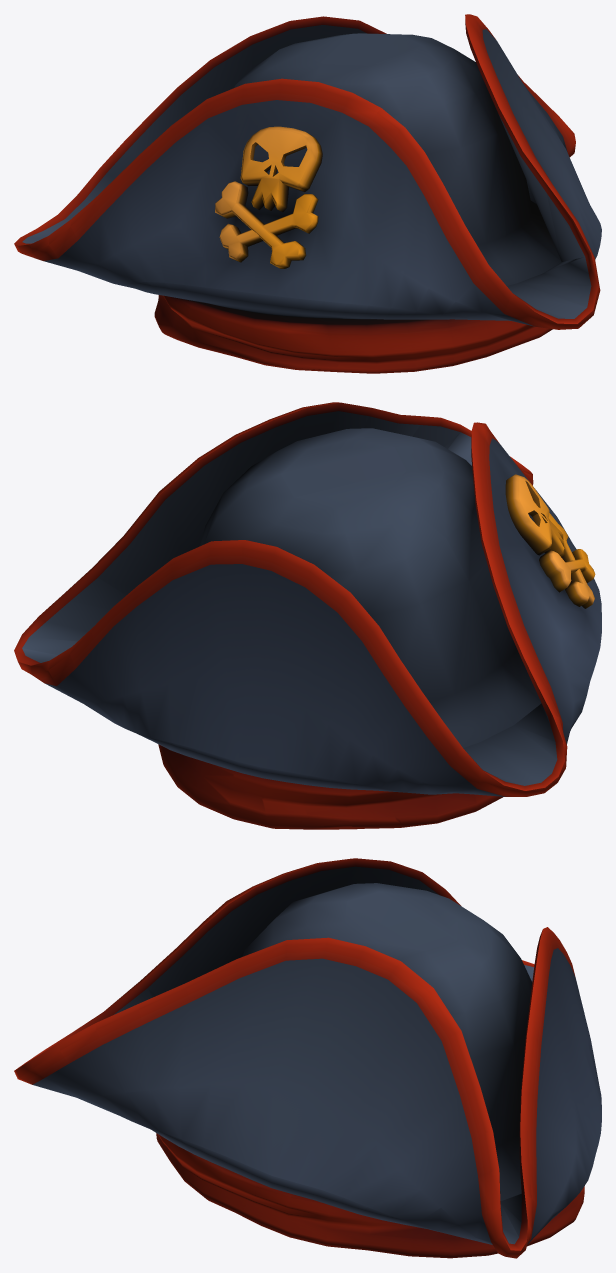
The model's file is Cap_Cocked_Hat_PA01.gltf.
3 views of the same model, one above another, from view 1: azimuth 30°, elevation 25°; view 2: azimuth 150°, elevation 25°; view 3: azimuth 270°, elevation 25° (orthographic). The views are drawn at different scales.
Parts seen in each view (by area): view 1: Cap_Cocked_Hat_PA01; view 2: Cap_Cocked_Hat_PA01; view 3: Cap_Cocked_Hat_PA01.
Part boxes in pixels (x1=…): Cap_Cocked_Hat_PA01: x1=14, y1=14, x2=601, y2=373; Cap_Cocked_Hat_PA01: x1=14, y1=402, x2=601, y2=829; Cap_Cocked_Hat_PA01: x1=14, y1=858, x2=601, y2=1258.
Size of the model in its own units: 1.32 by 0.6914 by 1.23.
3 materials, 3 textured.
